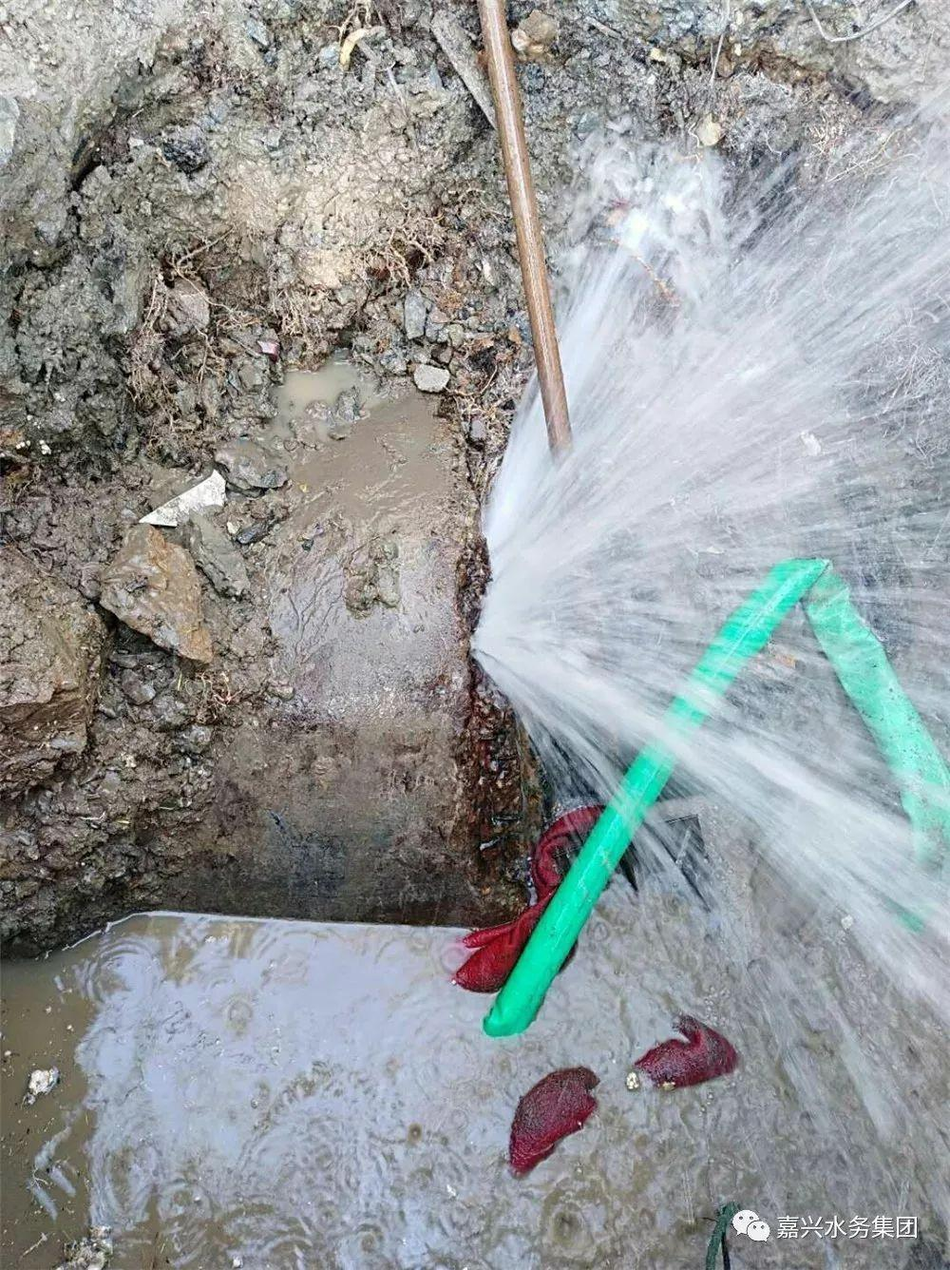pipe burst: (455, 58, 950, 1112)
water accumulation: (0, 917, 950, 1270), (266, 347, 388, 421)
